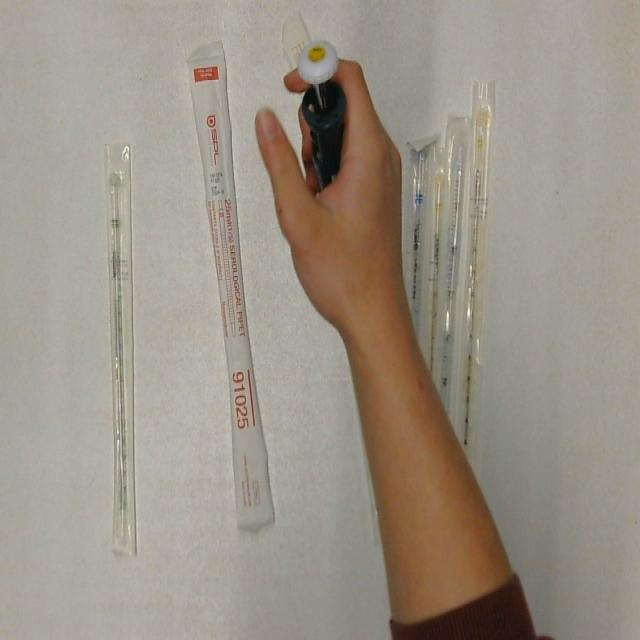Serelogical Pipet 1 mL - Sealed: (451, 74, 500, 472), (419, 142, 450, 376)
Serelogical Pipet 2 mL - Sealed: (102, 137, 142, 560)
Serelogical Pipet 25 mL - Sealed: (184, 38, 280, 539)
Serelogical Pipet 5 mL - Sealed: (438, 111, 476, 410), (398, 124, 445, 336)
Single Channel Pipettor: (293, 35, 357, 206)
